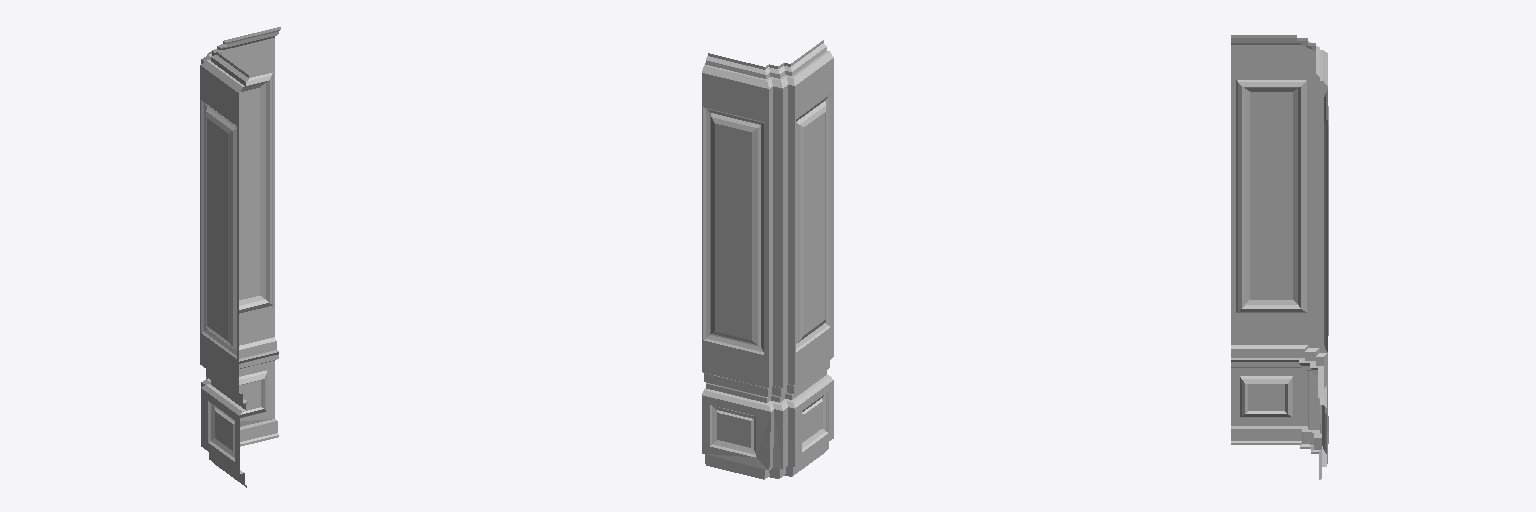
The model's file is WallCorner02.obj.
3 renders of one model, left to right at view 1: azimuth 30°, elevation 25°; view 2: azimuth 150°, elevation 25°; view 3: azimuth 270°, elevation 25°, orthographic.
Parts seen in each view (by area): view 1: Walls_Wall_Corner_01; view 2: Walls_Wall_Corner_01; view 3: Walls_Wall_Corner_01.
Boxes of the visible parts, <box> form: Walls_Wall_Corner_01: <box>200,27,280,487</box>; Walls_Wall_Corner_01: <box>702,40,833,479</box>; Walls_Wall_Corner_01: <box>1231,35,1328,479</box>.
Size of the model in its own units: 86.65 by 401 by 86.65.